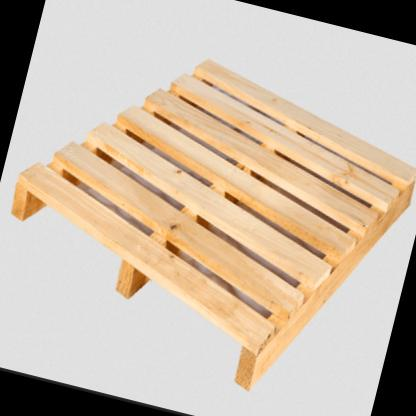BoxFace: (9, 54, 416, 398)
